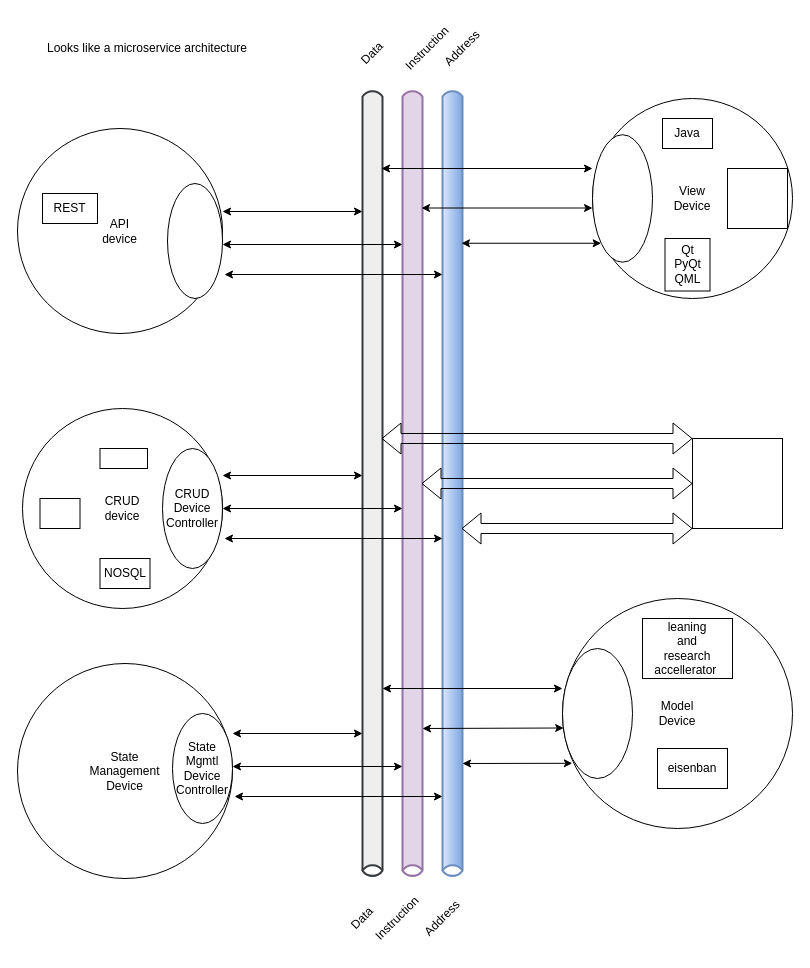
The diagram is 810 pixels wide and 968 high, and some of its shapes have lost their labels. Each missing label, with the centre of its shape:
API Device Controller: point (194, 240)
Command Line: point (757, 198)
Controller Core: point (737, 483)
file: point (123, 458)
Model Device Controller: point (597, 713)
RMDB: point (59, 513)
View Device Controller: point (622, 198)
